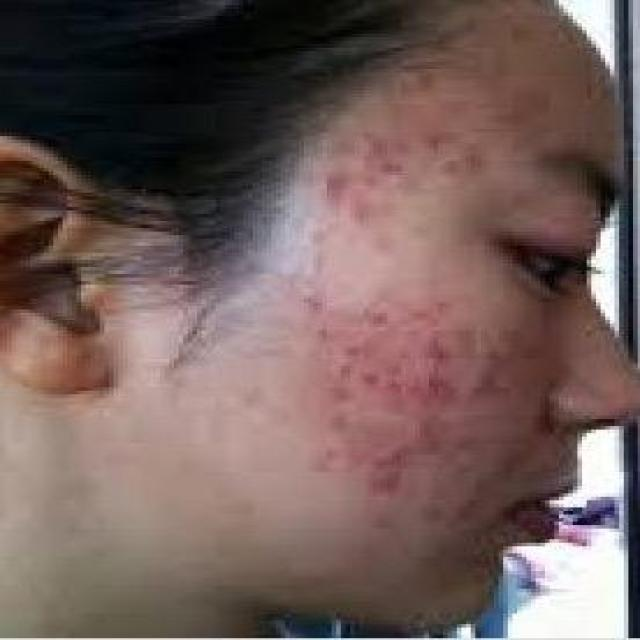Acne: (303, 301, 542, 526), (350, 108, 482, 180), (318, 162, 378, 220), (504, 14, 562, 44), (512, 77, 550, 121), (398, 61, 446, 95)
